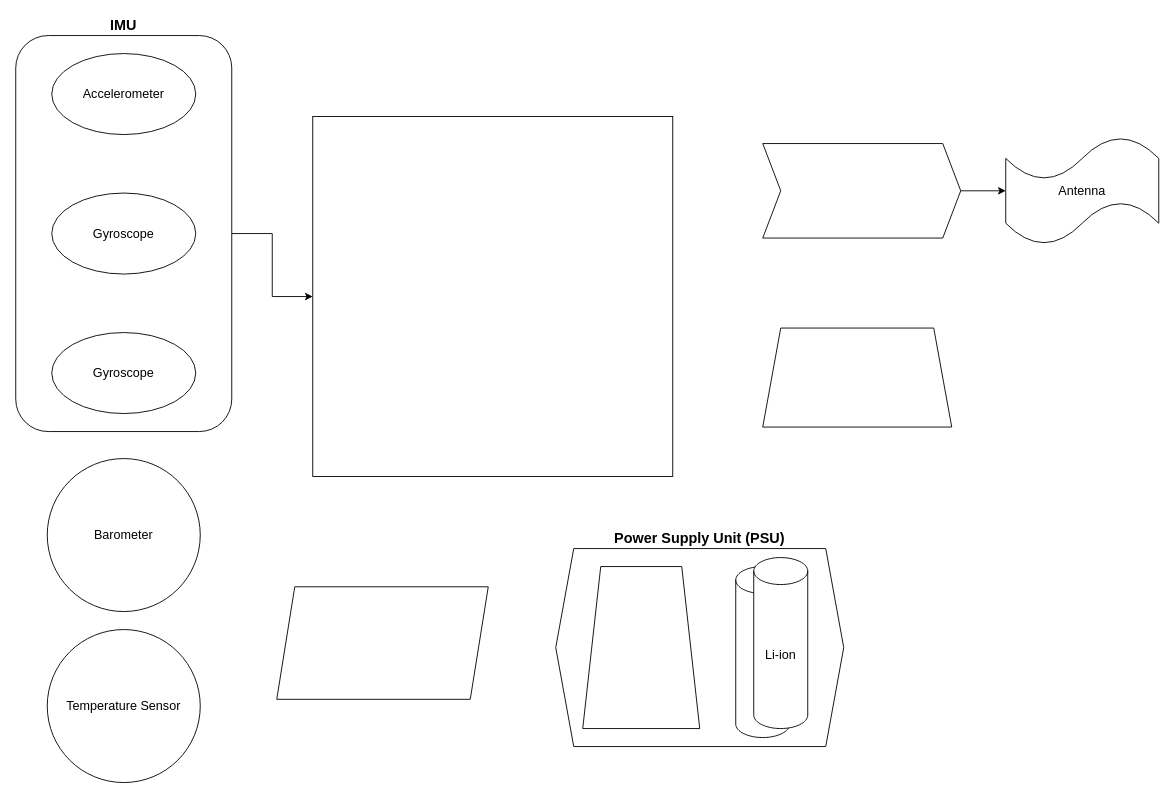
Some shapes in this 1175 by 798 pixel diagram are drawn without their labels. Each missing label, with the centre of its shape:
"GPS" goes at pixel 857 377.
"Microcontroller (MCU)" goes at pixel 492 296.
"Radio Transceiver" goes at pixel 861 190.
"Regulator" goes at pixel 641 647.
"SD Card" goes at pixel 382 642.
